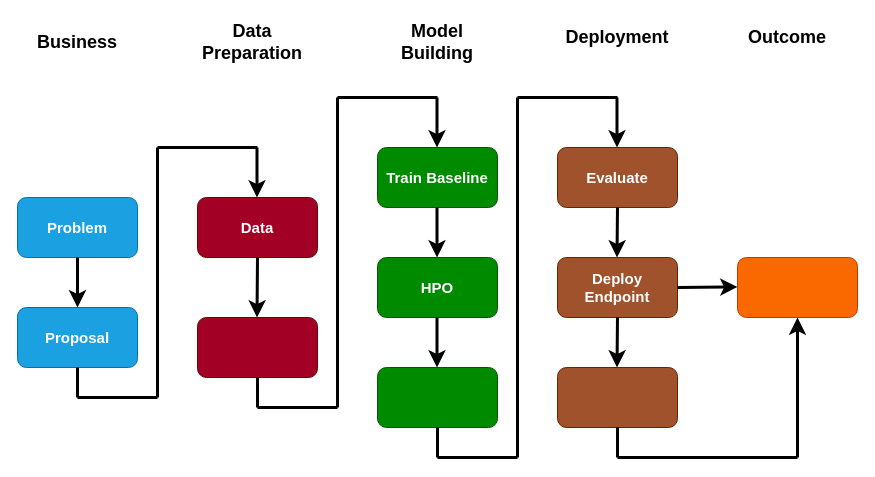
Image size: 875x477. Some labels were removed from this diagram. The shapes that lost their labels are listed below. From the top down, each one's centre as x and y in pixels, then its label:
At point (797, 287): "Prediction".
At point (257, 347): "Preprocess".
At point (437, 397): "DDP Train".
At point (617, 397): "Lambda Function".
